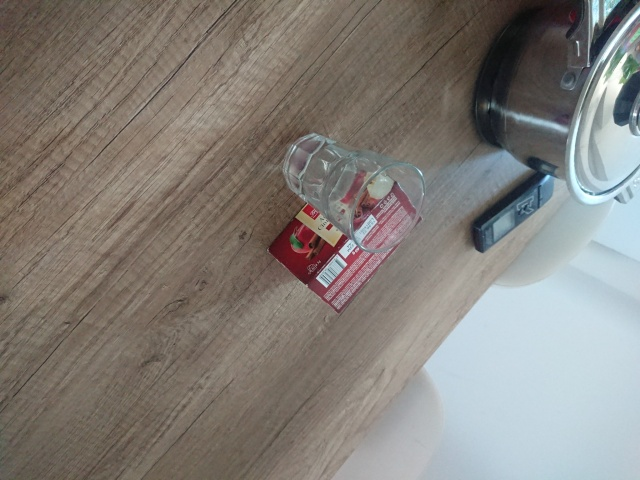Franck Apple Cinnamon Tea 60g: (264, 156, 424, 315)
